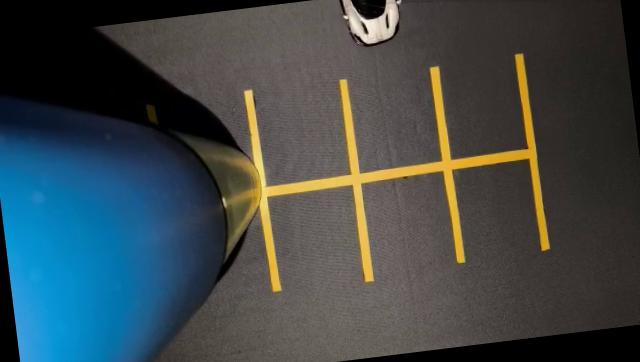toy_car: (326, 0, 422, 73)
